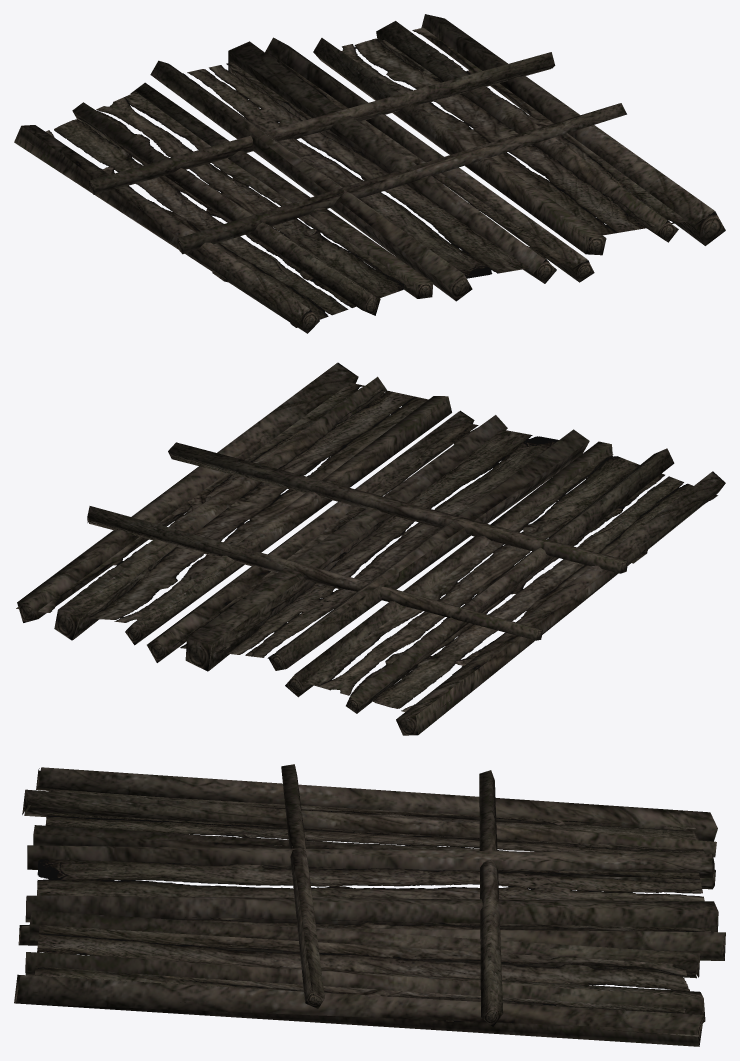
Rendered from MEP_Wall_02.fbx.
The picture shows the model from 3 angles, top to bottom: view 1: azimuth 30°, elevation 25°; view 2: azimuth 150°, elevation 25°; view 3: azimuth 270°, elevation 25°; orthographic projection. The views are drawn at different scales.
Parts seen in each view (by area): view 1: MEP_Wall_02; view 2: MEP_Wall_02; view 3: MEP_Wall_02.
Part boxes in pixels (x1,y1,x2,y2): MEP_Wall_02: (14,14,725,333); MEP_Wall_02: (16,362,725,735); MEP_Wall_02: (14,764,725,1046).
Bounding box in the file's own units: 4.75 × 0.7005 × 5.61.
